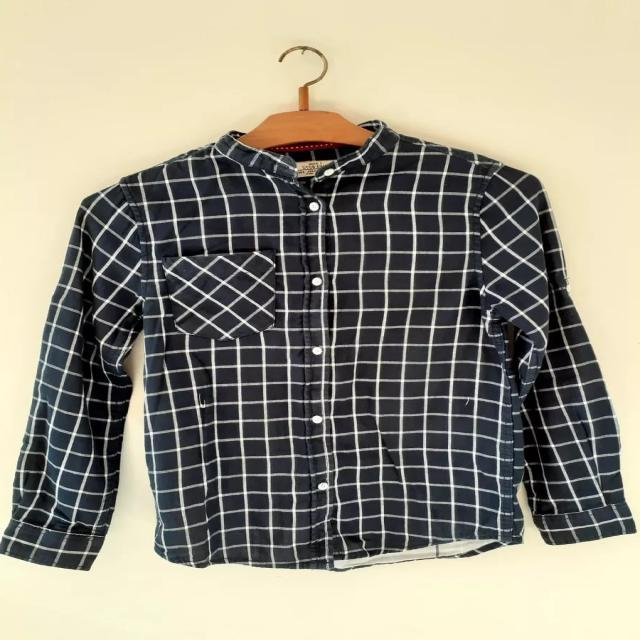long sleeve shirt: (1, 118, 638, 574)
